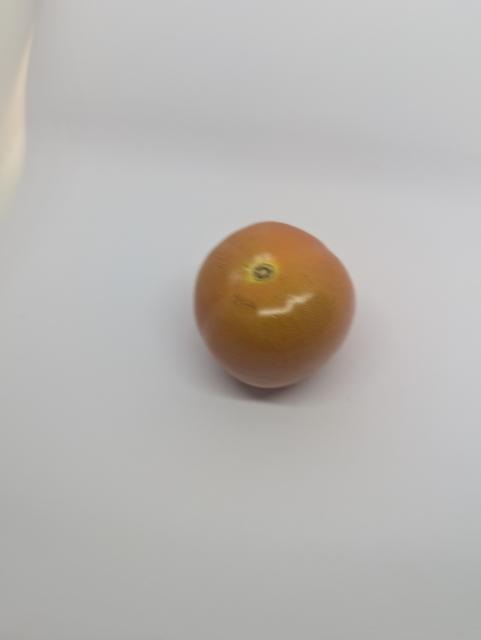turning: (189, 219, 362, 394)
